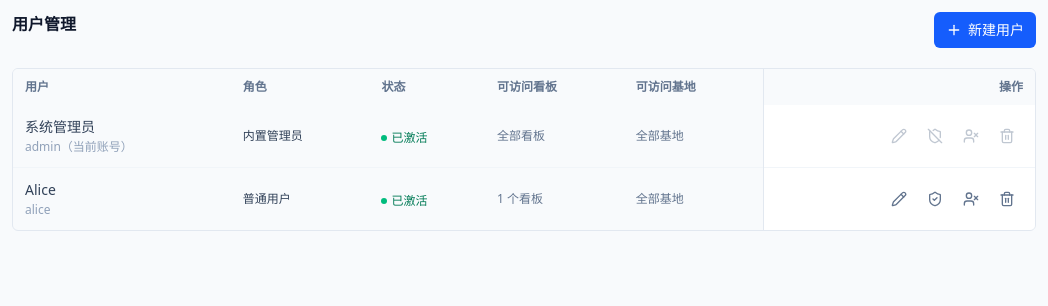
user administrator roles › promotes and demotes an existing user after confirmation
The width and height of the screenshot is (1048, 306).
Click the button named "设为管理员".
click(935, 199)  # box [919,183,951,215]
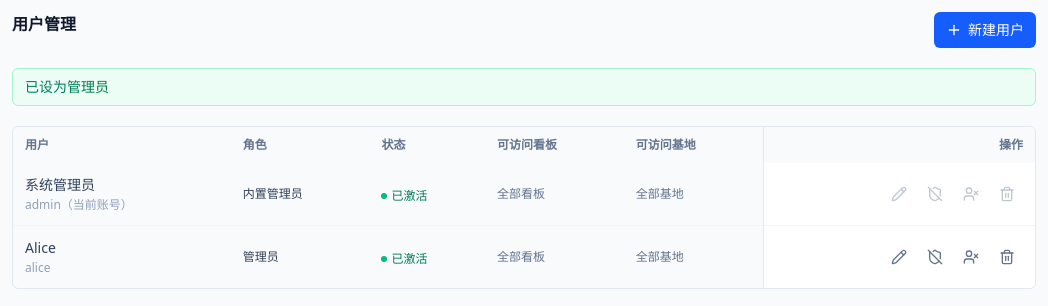
Check: the 2nd text "全部看板" is shown, box [485,226,624,288]
Click the 2nd button named "取消管理员".
click(935, 257)  # box [919,241,951,273]
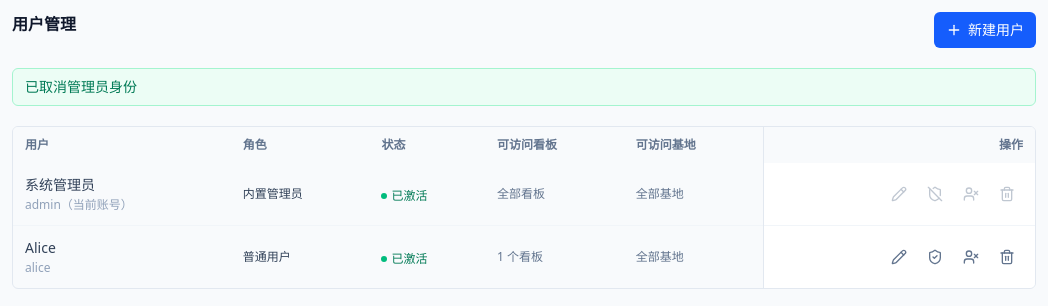
Check: the row "Alice alice 普通用户 已激活 1 个看板 全部基地" is shown, box [13,226,1035,288]
Check: the text "已取消管理员身份" is shown, box [12,68,1036,106]
